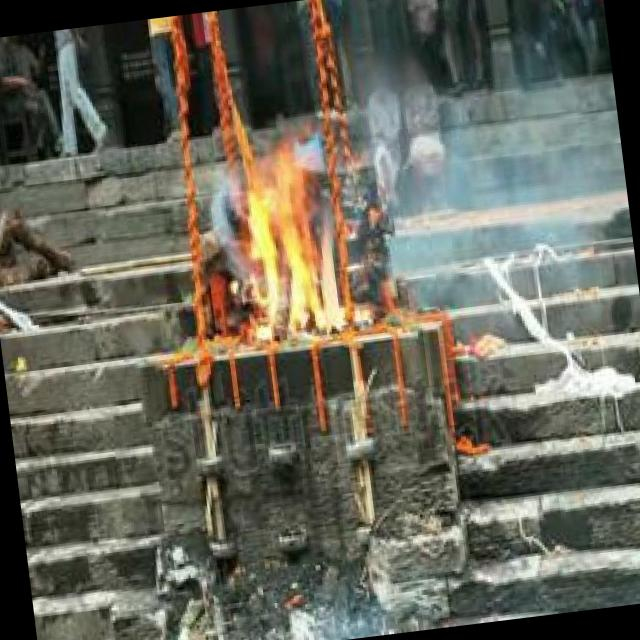Fire: (233, 130, 362, 348)
